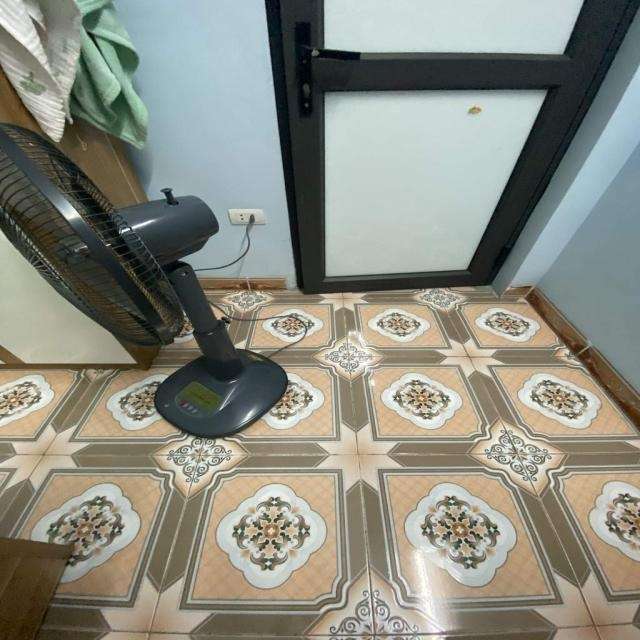outlet: (227, 208, 266, 225)
